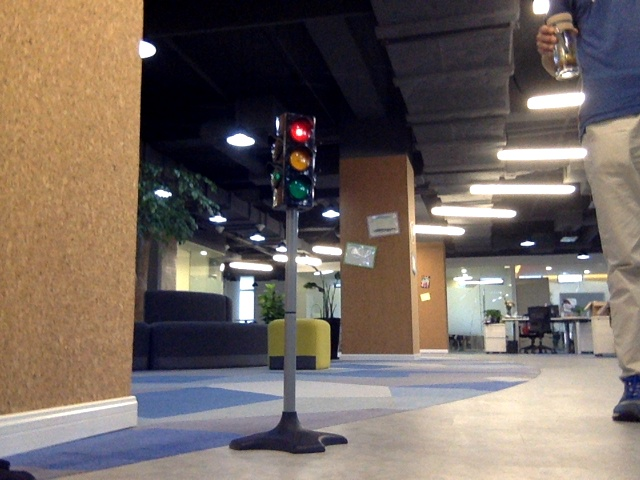red: (277, 115, 312, 202)
